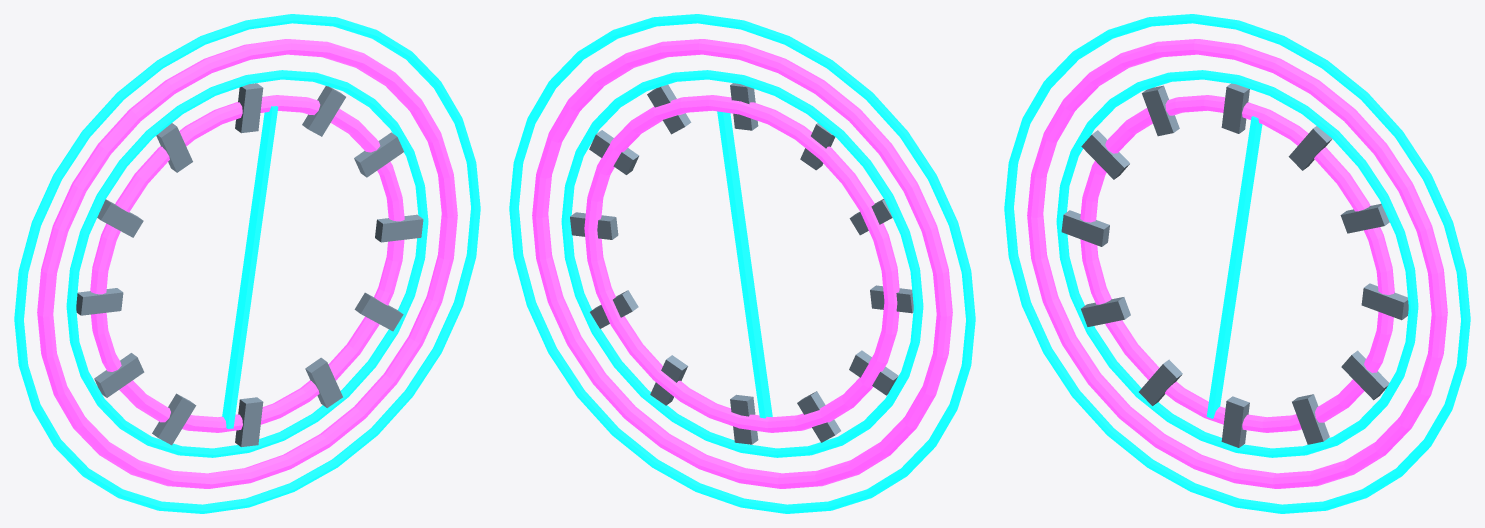
Rendered from time_rift_gateway.glb.
3 renders of one model, left to right at view 1: azimuth 30°, elevation 25°; view 2: azimuth 150°, elevation 25°; view 3: azimuth 330°, elevation 25°, orthographic.
Parts seen in each view (by area): view 1: dimensional expanding ring 2, dimensional expanding ring 3, dimensional expanding ring 0, dimensional expanding ring 1, time slash central seam, spatial broken reality shard 6, spatial broken reality shard 2, spatial broken reality shard 8, spatial broken reality shard 0, spatial broken reality shard 3, spatial broken reality shard 7, spatial broken reality shard 1 (+5 smaller); view 2: dimensional expanding ring 2, dimensional expanding ring 0, dimensional expanding ring 3, dimensional expanding ring 1, time slash central seam, spatial broken reality shard 6, spatial broken reality shard 2, spatial broken reality shard 3, spatial broken reality shard 7, spatial broken reality shard 8, spatial broken reality shard 1, spatial broken reality shard 5 (+5 smaller); view 3: dimensional expanding ring 2, dimensional expanding ring 3, dimensional expanding ring 0, dimensional expanding ring 1, time slash central seam, spatial broken reality shard 5, spatial broken reality shard 9, spatial broken reality shard 11, spatial broken reality shard 6, spatial broken reality shard 3, spatial broken reality shard 10, spatial broken reality shard 4 (+5 smaller).
Part boxes in pixels (<box>): dimensional expanding ring 2: <box>37,39,457,488</box>; dimensional expanding ring 3: <box>14,14,480,513</box>; dimensional expanding ring 0: <box>90,95,404,432</box>; dimensional expanding ring 1: <box>66,70,428,457</box>; time slash central seam: <box>222,106,278,428</box>; spatial broken reality shard 6: <box>235,397,263,446</box>; spatial broken reality shard 2: <box>354,132,403,177</box>; spatial broken reality shard 8: <box>94,353,144,397</box>; spatial broken reality shard 0: <box>235,83,263,133</box>; spatial broken reality shard 3: <box>375,214,423,242</box>; spatial broken reality shard 7: <box>152,393,196,445</box>; spatial broken reality shard 1: <box>302,86,345,136</box>; dimensional expanding ring 2: <box>532,39,952,488</box>; dimensional expanding ring 0: <box>584,95,899,432</box>; dimensional expanding ring 3: <box>509,14,975,513</box>; dimensional expanding ring 1: <box>561,70,923,457</box>; time slash central seam: <box>717,111,772,418</box>; spatial broken reality shard 6: <box>730,394,758,444</box>; spatial broken reality shard 2: <box>589,130,639,174</box>; spatial broken reality shard 3: <box>570,212,618,239</box>; spatial broken reality shard 7: <box>797,391,840,442</box>; spatial broken reality shard 8: <box>849,350,898,395</box>; spatial broken reality shard 1: <box>647,84,691,134</box>; spatial broken reality shard 5: <box>650,355,687,405</box>; dimensional expanding ring 2: <box>1027,39,1447,488</box>; dimensional expanding ring 3: <box>1004,14,1470,513</box>; dimensional expanding ring 0: <box>1080,95,1394,432</box>; dimensional expanding ring 1: <box>1056,70,1418,457</box>; time slash central seam: <box>1206,116,1262,418</box>; spatial broken reality shard 5: <box>1292,394,1329,444</box>; spatial broken reality shard 9: <box>1061,210,1109,246</box>; spatial broken reality shard 11: <box>1142,85,1179,136</box>; spatial broken reality shard 6: <box>1221,396,1249,447</box>; spatial broken reality shard 3: <box>1361,283,1408,320</box>; spatial broken reality shard 10: <box>1081,130,1129,179</box>; spatial broken reality shard 4: <box>1341,350,1389,400</box>.
Bounding box in the file's own units: 4.81 × 4.81 × 0.175.
